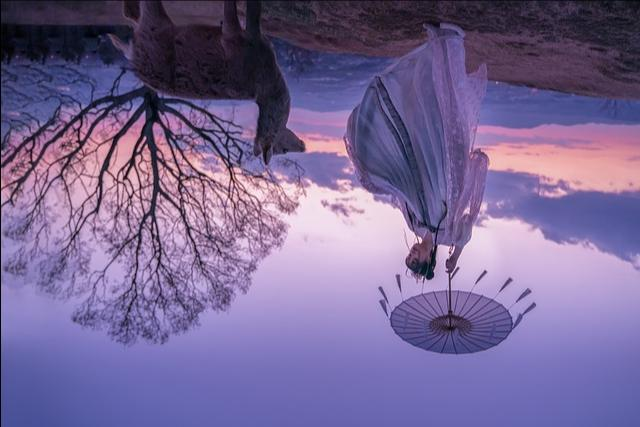Non_Gorille: (2, 6, 640, 424)
